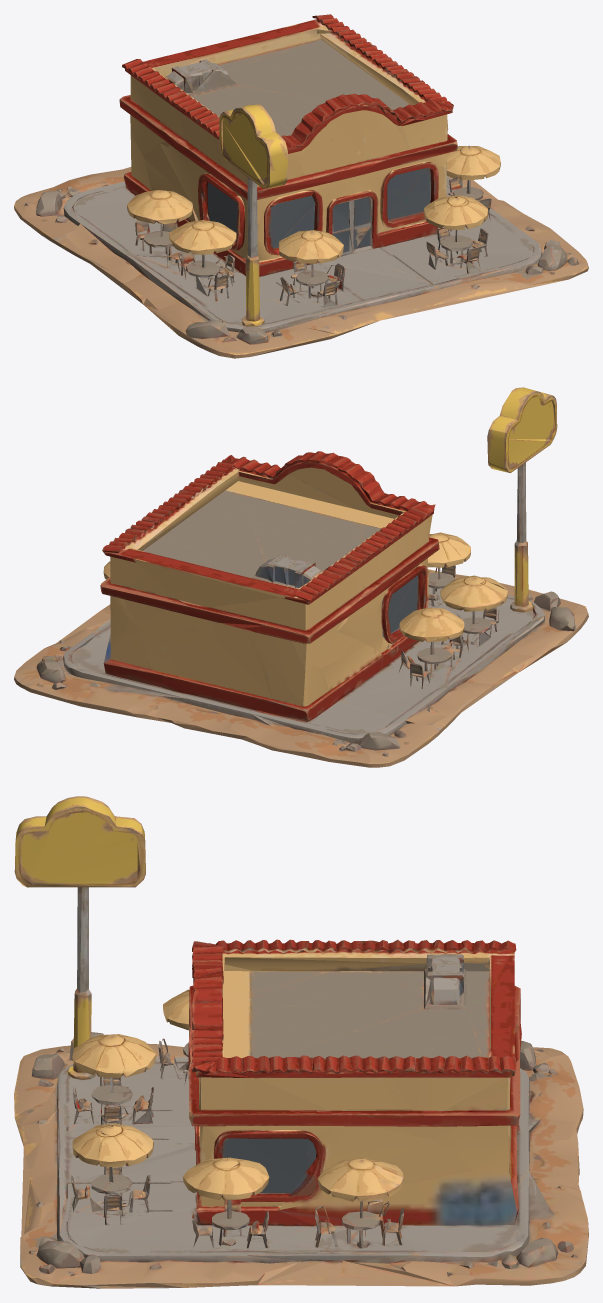
Rendered from pollos.glb.
3 views of the same model, one above another, from view 1: azimuth 30°, elevation 25°; view 2: azimuth 150°, elevation 25°; view 3: azimuth 270°, elevation 25° (orthographic). The views are drawn at different scales.
Parts seen in each view (by area): view 1: placed; view 2: placed; view 3: placed.
Boxes of the visible parts, x1=… form: placed: x1=14, y1=14, x2=588, y2=358; placed: x1=14, y1=387, x2=588, y2=767; placed: x1=14, y1=796, x2=588, y2=1288.
Bounding box in the file's own units: 17.67 × 9.9 × 18.
1 material, 1 textured.
